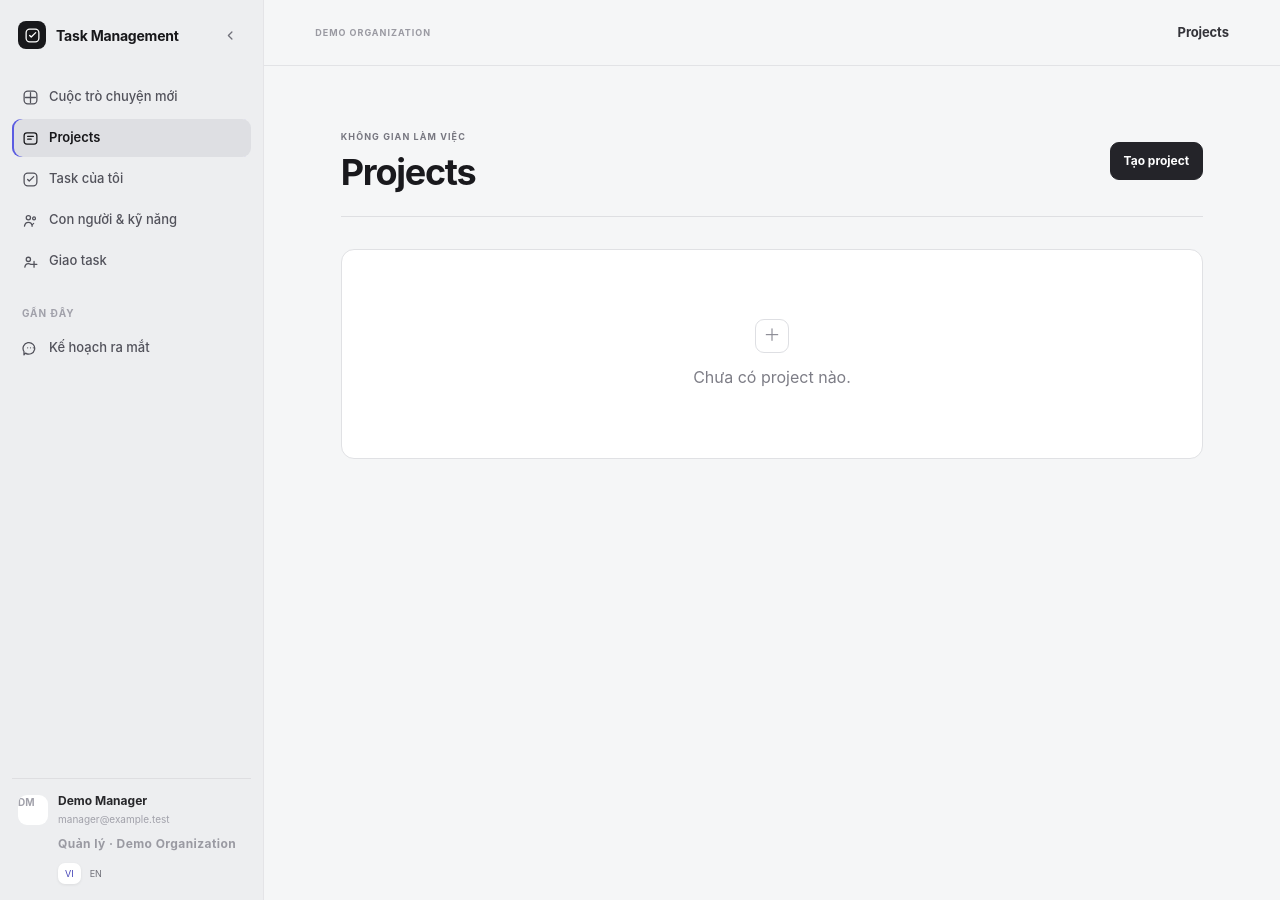
Test case: WorkWorkspace › keeps the conversation sidebar and history mounted across every workspace view
expect the text "Kế hoạch ra mắt" is shown: met, box [49,338,150,358]
expect the text "Task Management" is shown: met, box [56,26,179,44]
Click the button "Task của tôi" at (132, 179), box [12,160,251,198]
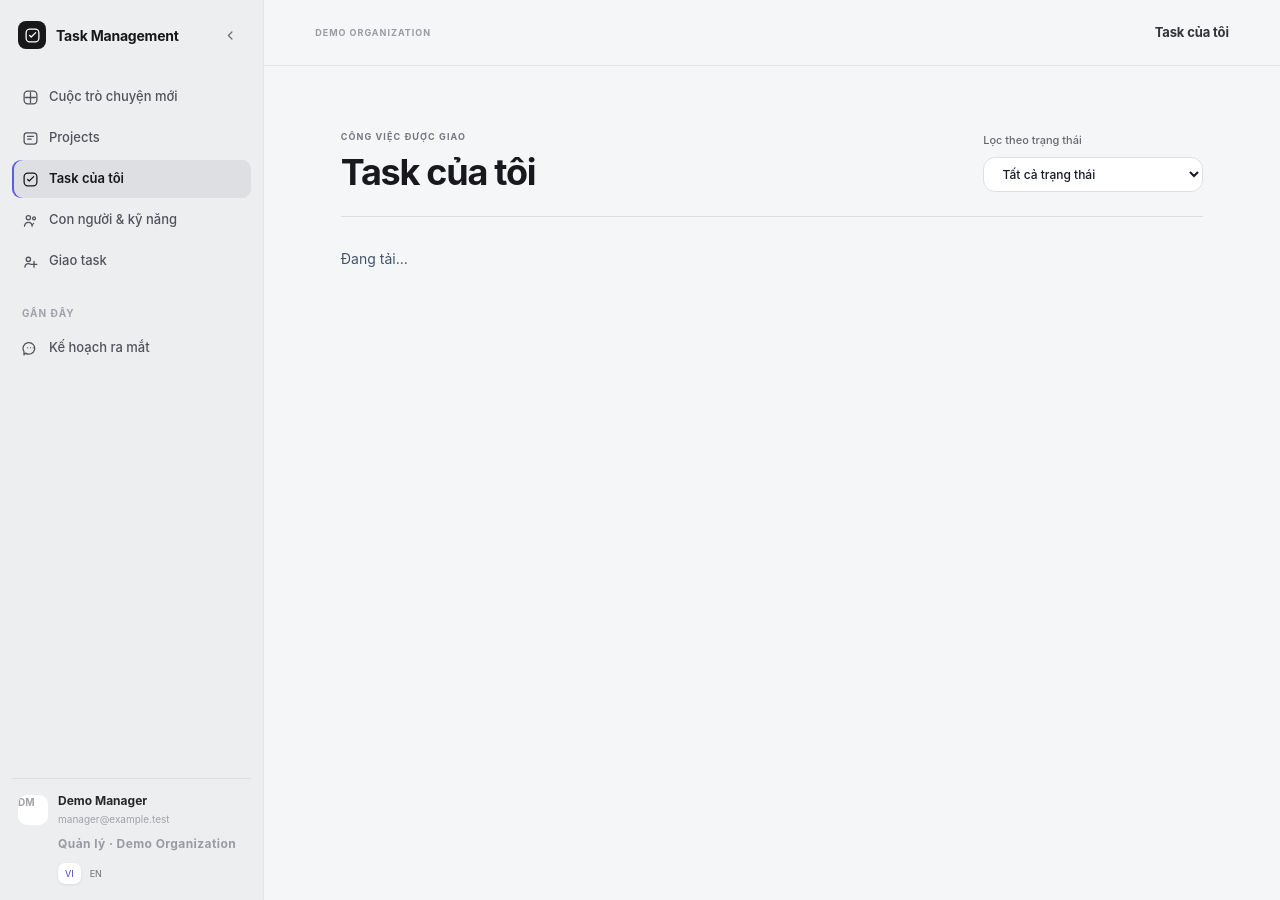
expect the text "Kế hoạch ra mắt" is shown: met, box [49,338,150,358]
expect the heading "Task của tôi" is shown: met, box [341,152,535,192]
Click the button "Giao task" at (132, 261), box [12,242,251,280]
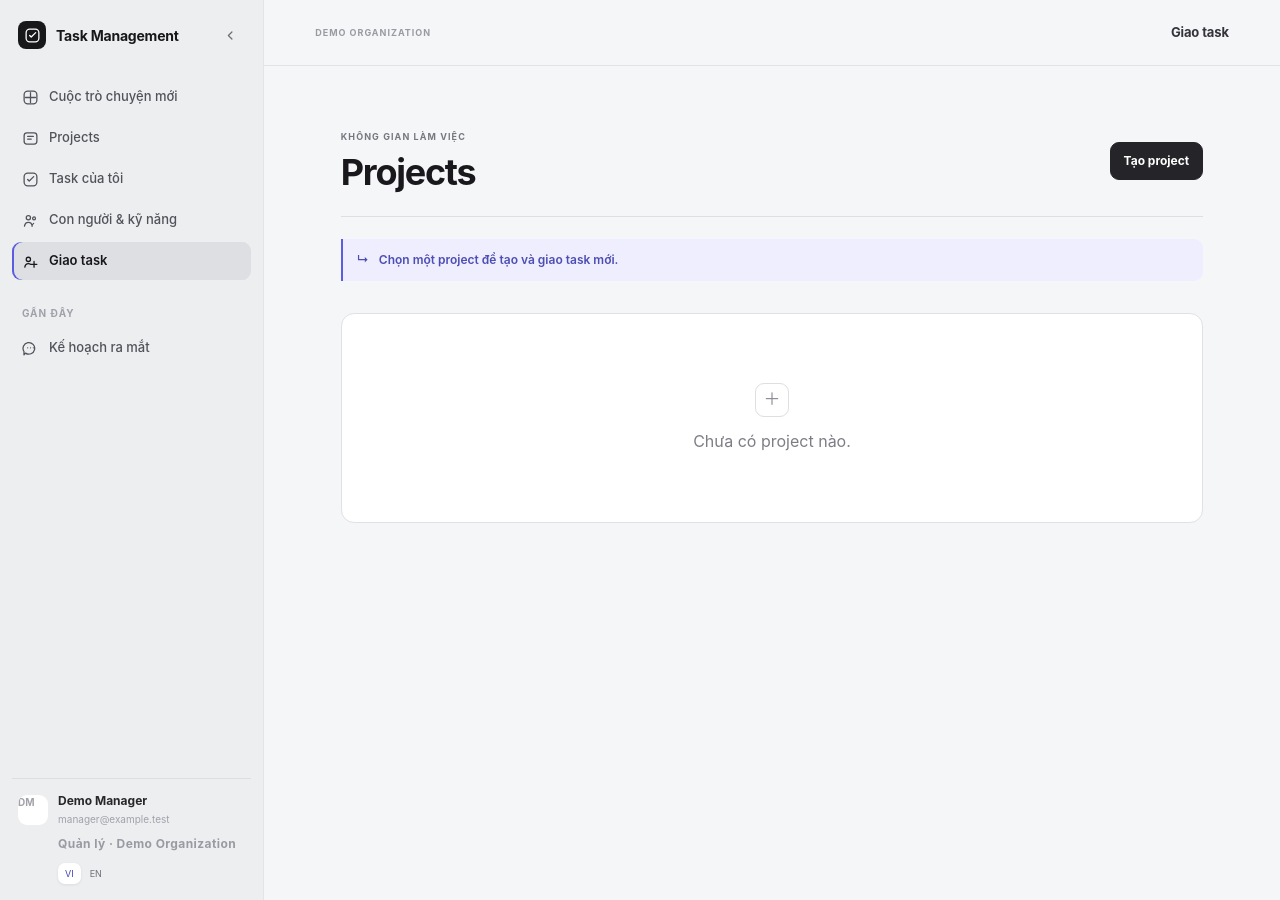
expect the text "Kế hoạch ra mắt" is shown: met, box [49,338,150,358]
expect the text "Chọn một project để tạo và giao task mới." is shown: met, box [379,251,618,269]
Click the button "Cuộc trò chuyện mới" at (132, 97), box [12,78,251,116]
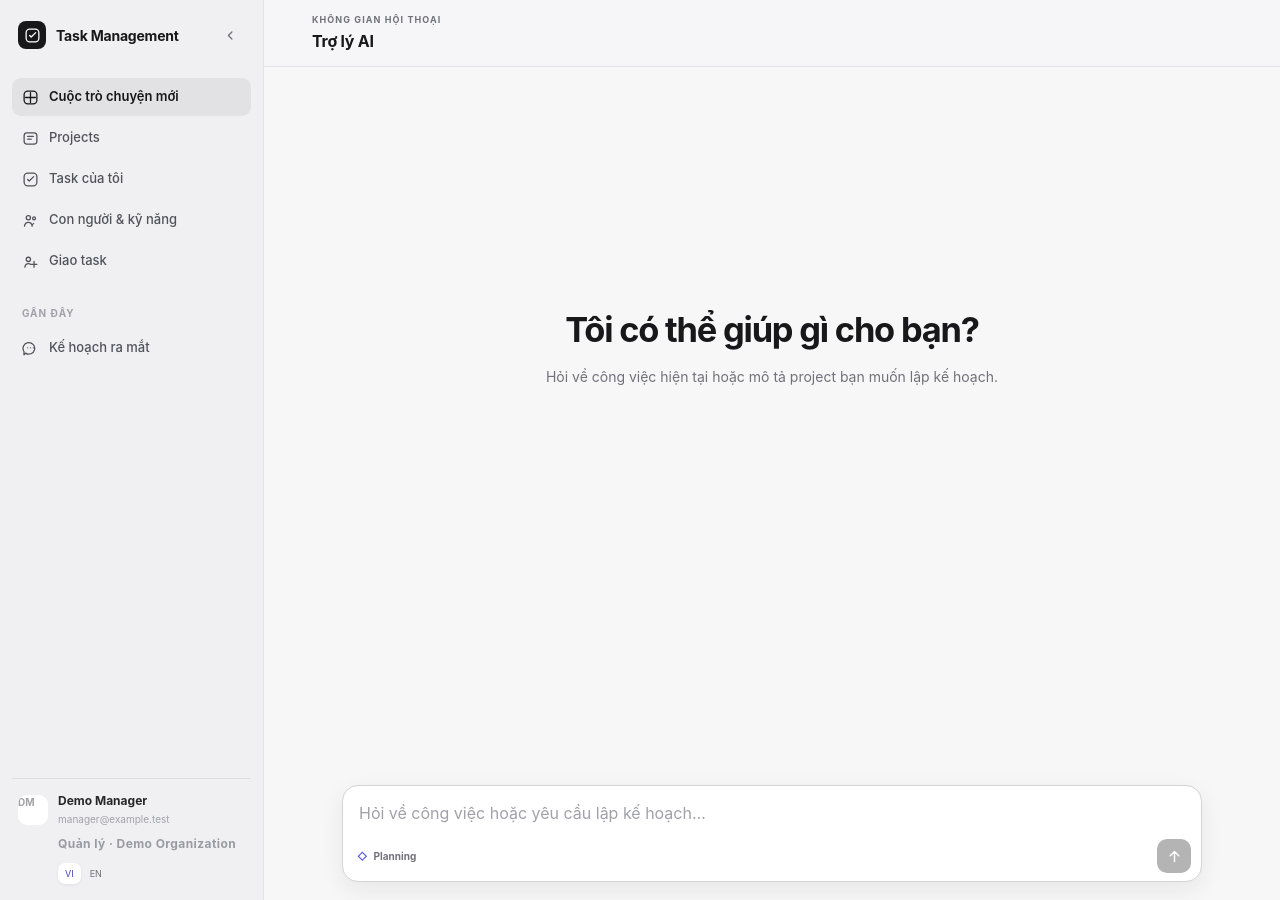
expect the text "Kế hoạch ra mắt" is shown: met, box [49,338,150,358]
expect the heading "Trợ lý AI" is shown: met, box [312,30,374,50]
expect the text box named "Nhắn cho Trợ lý AI" is shown: met, box [357,795,1191,835]
